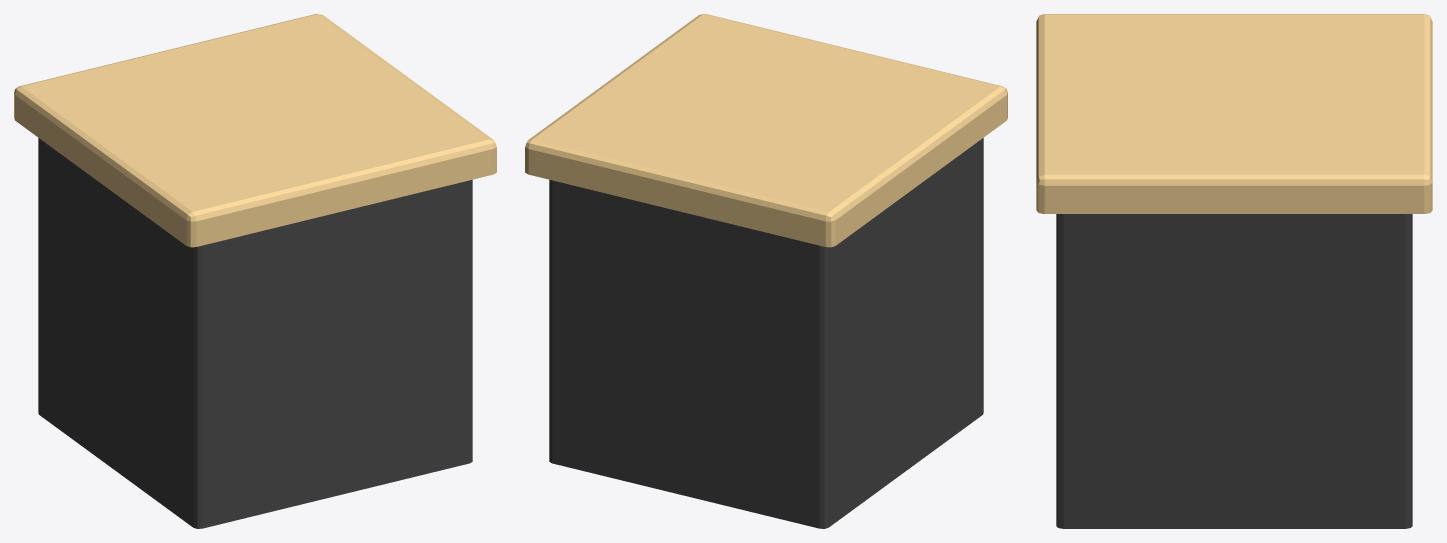
Rendered from Workbench_Final.fbx.
3 views of the same model, side by side, from view 1: azimuth 30°, elevation 25°; view 2: azimuth 150°, elevation 25°; view 3: azimuth 270°, elevation 25° (orthographic). The views are drawn at different scales.
Parts seen in each view (by area): view 1: Workbench Final; view 2: Workbench Final; view 3: Workbench Final.
Part boxes in pixels (x1,y1,x2,y2): Workbench Final: (14,14,496,528); Workbench Final: (525,14,1007,528); Workbench Final: (1036,14,1432,528).
Bounding box in the file's own units: 100 × 100 × 100.
